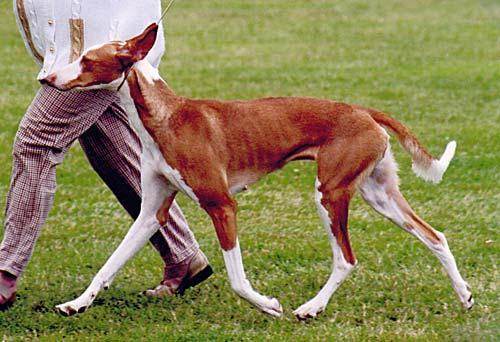Ibizan_hound: (38, 19, 477, 318)
